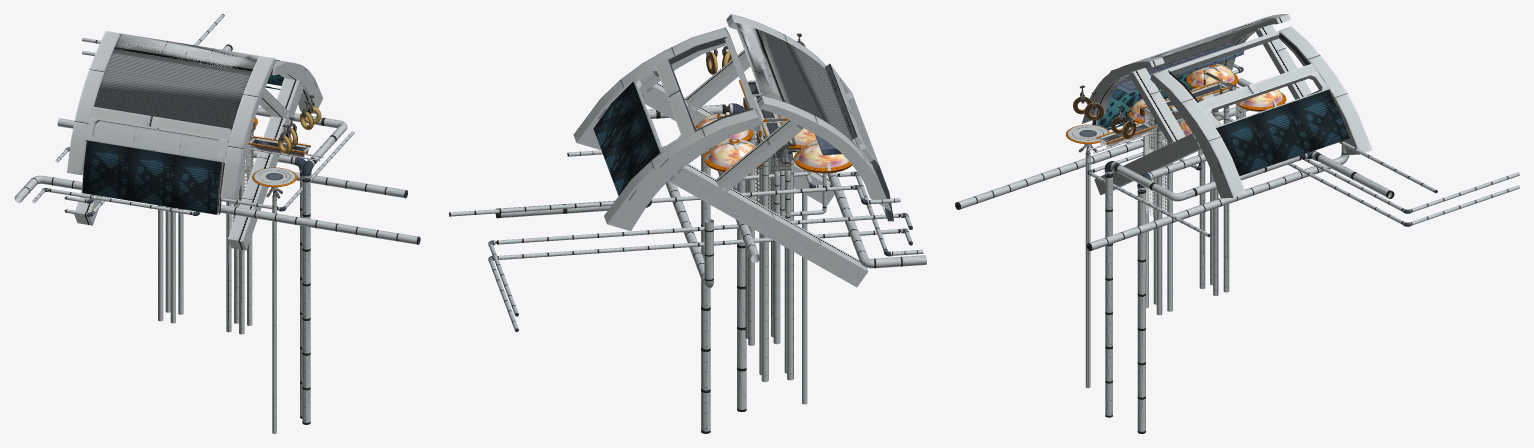
Rendered from stg220_16.obj.
The picture shows the model from 3 angles, left to right: view 1: azimuth 30°, elevation 25°; view 2: azimuth 150°, elevation 25°; view 3: azimuth 270°, elevation 25°; orthographic projection. The views are drawn at different scales.
Visible parts, largest first — view 1: polygon178, polygon174, polygon177, polygon173, polygon110, polygon127, polygon180, polygon149, polygon140, polygon46, polygon108, polygon113 (+2 smaller); view 2: polygon180, polygon178, polygon177, polygon112, polygon110, polygon174, polygon149, polygon108, polygon140, polygon127, polygon113, polygon173 (+6 smaller); view 3: polygon178, polygon177, polygon180, polygon127, polygon108, polygon110, polygon140, polygon149, polygon113, polygon112, polygon46, polygon173 (+5 smaller).
Part boxes in pixels (x1,y1,x2,y2): polygon178: [67, 31, 315, 250]; polygon174: [94, 53, 250, 133]; polygon177: [82, 74, 284, 214]; polygon173: [86, 34, 277, 214]; polygon110: [14, 14, 419, 244]; polygon127: [256, 107, 347, 424]; polygon180: [82, 59, 323, 249]; polygon149: [158, 205, 183, 323]; polygon140: [226, 140, 252, 334]; polygon46: [254, 168, 295, 433]; polygon108: [57, 118, 302, 418]; polygon113: [244, 164, 406, 198]; polygon180: [577, 22, 891, 287]; polygon178: [573, 14, 894, 271]; polygon177: [593, 82, 882, 195]; polygon112: [489, 213, 912, 330]; polygon110: [449, 149, 926, 268]; polygon174: [764, 31, 856, 146]; polygon149: [759, 160, 793, 382]; polygon108: [701, 148, 759, 433]; polygon140: [745, 129, 780, 345]; polygon127: [647, 104, 746, 411]; polygon113: [651, 119, 713, 288]; polygon173: [633, 22, 893, 220]; polygon178: [1083, 14, 1372, 197]; polygon177: [1100, 72, 1349, 176]; polygon180: [1082, 18, 1359, 198]; polygon127: [1105, 155, 1301, 417]; polygon108: [1137, 153, 1206, 433]; polygon110: [957, 63, 1436, 209]; polygon140: [1143, 122, 1172, 315]; polygon149: [1199, 108, 1229, 295]; polygon113: [1088, 144, 1349, 250]; polygon112: [1218, 112, 1519, 225]; polygon46: [1067, 125, 1108, 388]; polygon173: [1092, 18, 1309, 155].
Size of the model in its own units: 2369 by 2548 by 3640.
Materials: 37 (37 with a texture image).
